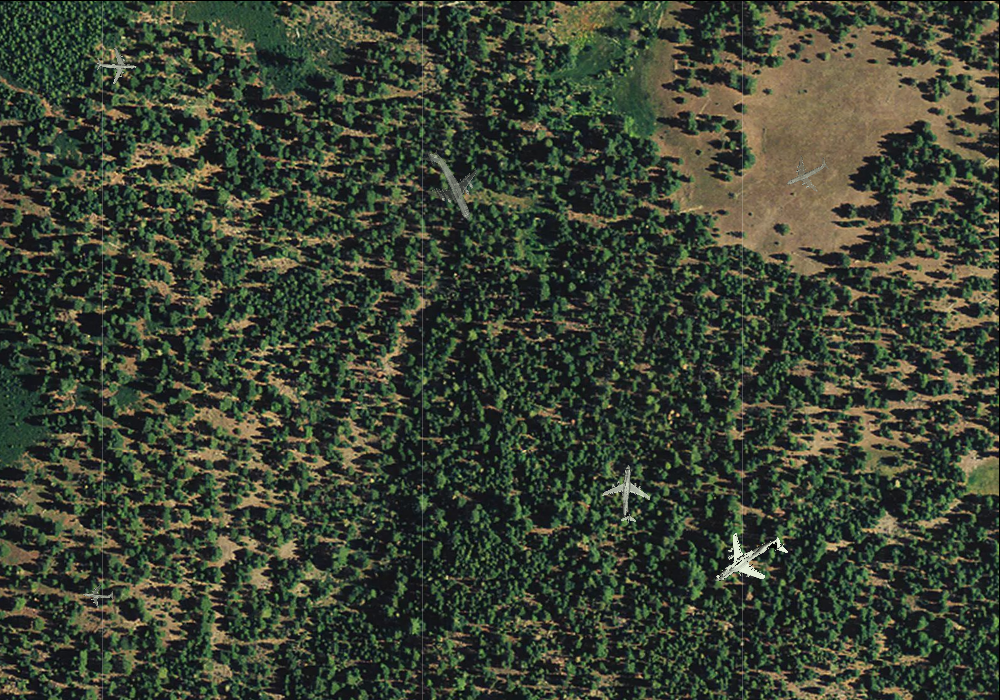plane: (697, 511, 801, 612), (401, 135, 497, 236), (598, 462, 657, 524), (777, 143, 837, 202), (95, 45, 137, 85), (80, 579, 114, 611)
